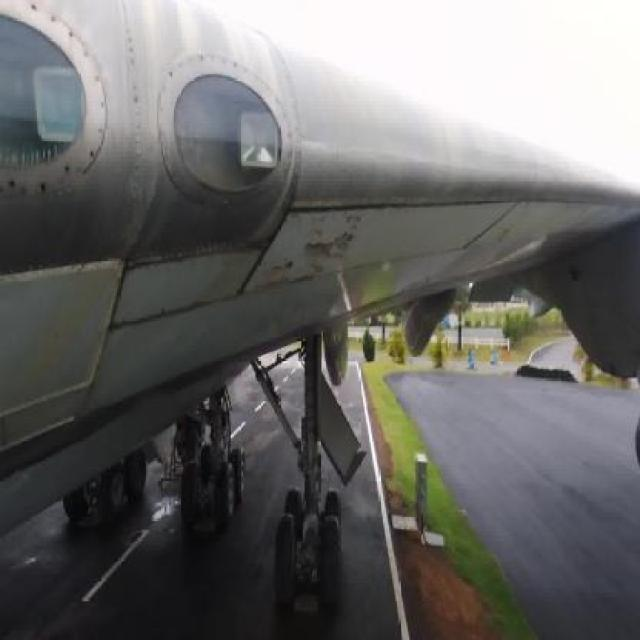Scartch: (237, 199, 366, 307)
